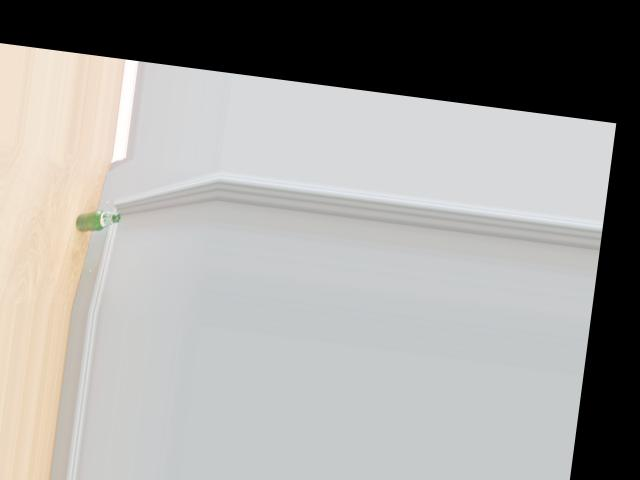beer: (75, 208, 120, 235)
